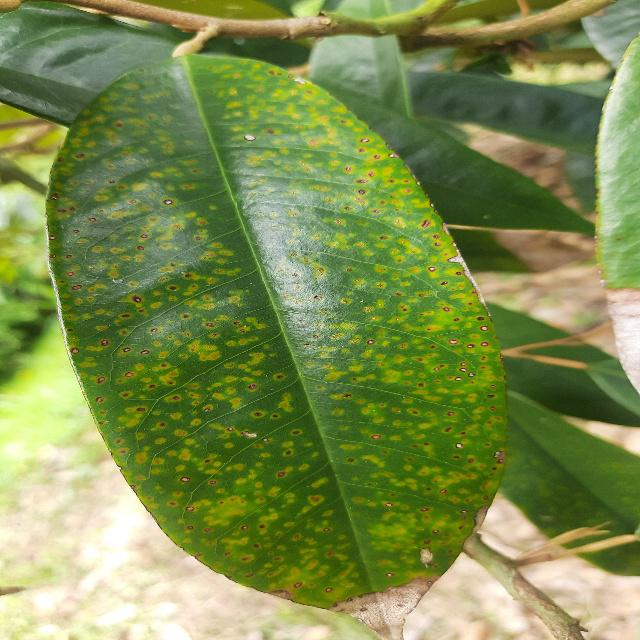Leaf Spot: (35, 41, 519, 639)
